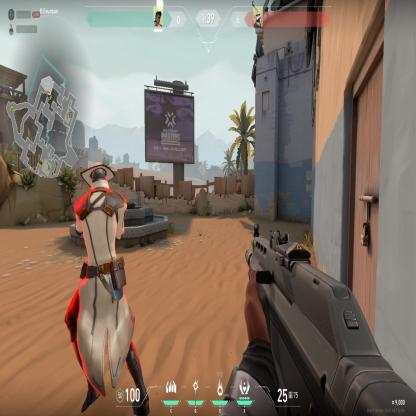enemy: (64, 160, 150, 416)
